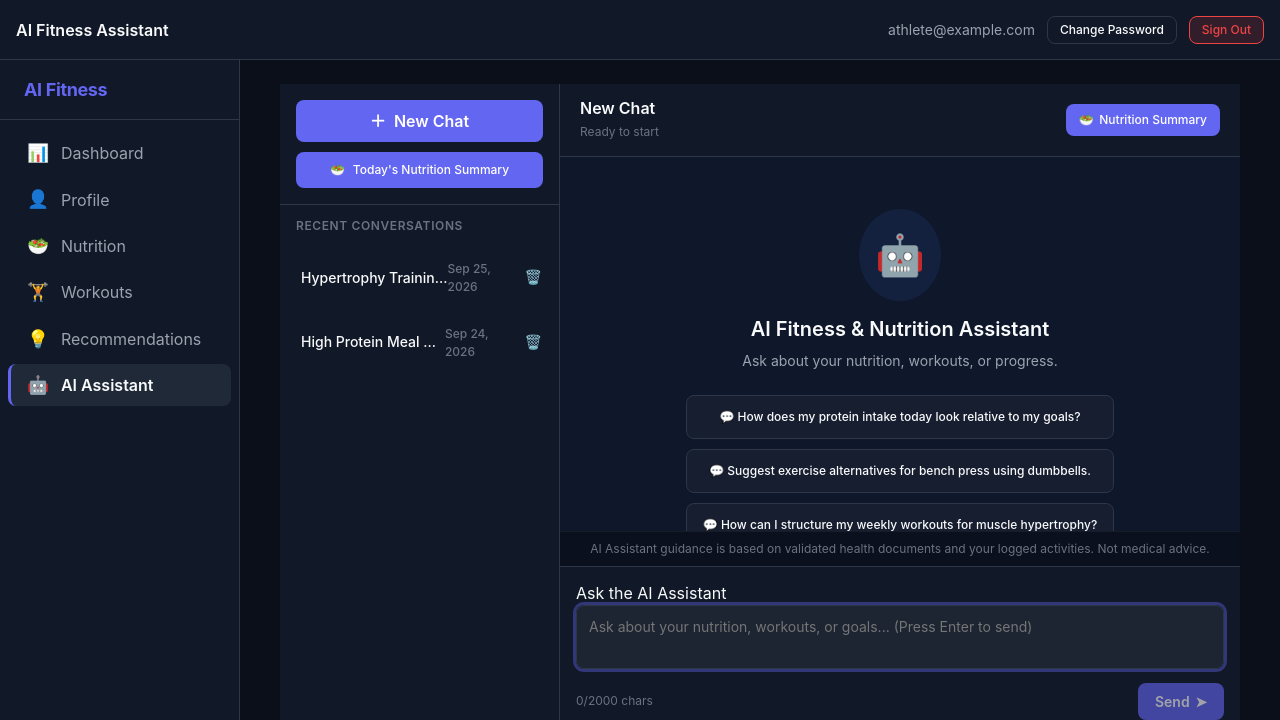
Phase 8H — AI Assistant & RAG Tests › 6. conversation delete requires confirmation dialog
Expected: the heading "AI Fitness & Nutrition Assistant" is shown, [751,317,1049,342]
Click the button named "delete conversation hypertrophy training routine" at [533, 277], box [516,262,550,292]
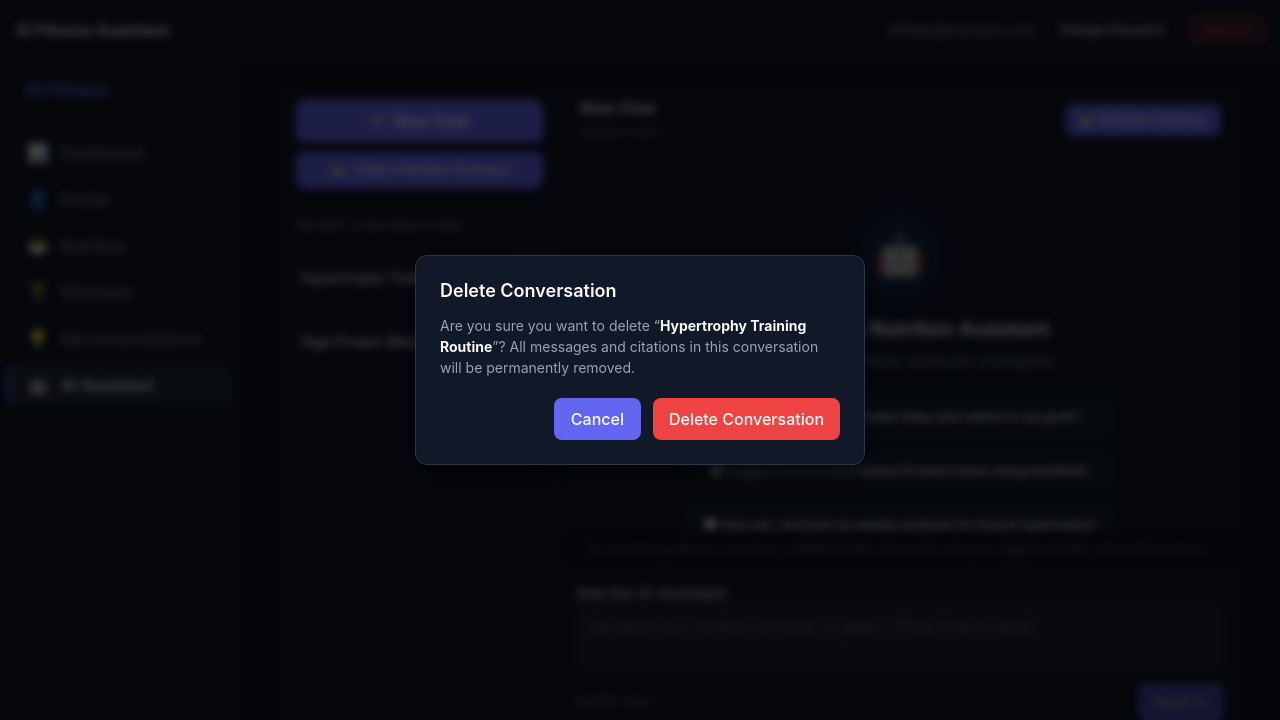
Result: the dialog "Delete Conversation" is shown
Result: the text "Are you sure you want to delete" is shown at [440,317,660,334]
# Cancel closes dialog
Click the button "Cancel" at [597, 419], box [554,398,641,440]
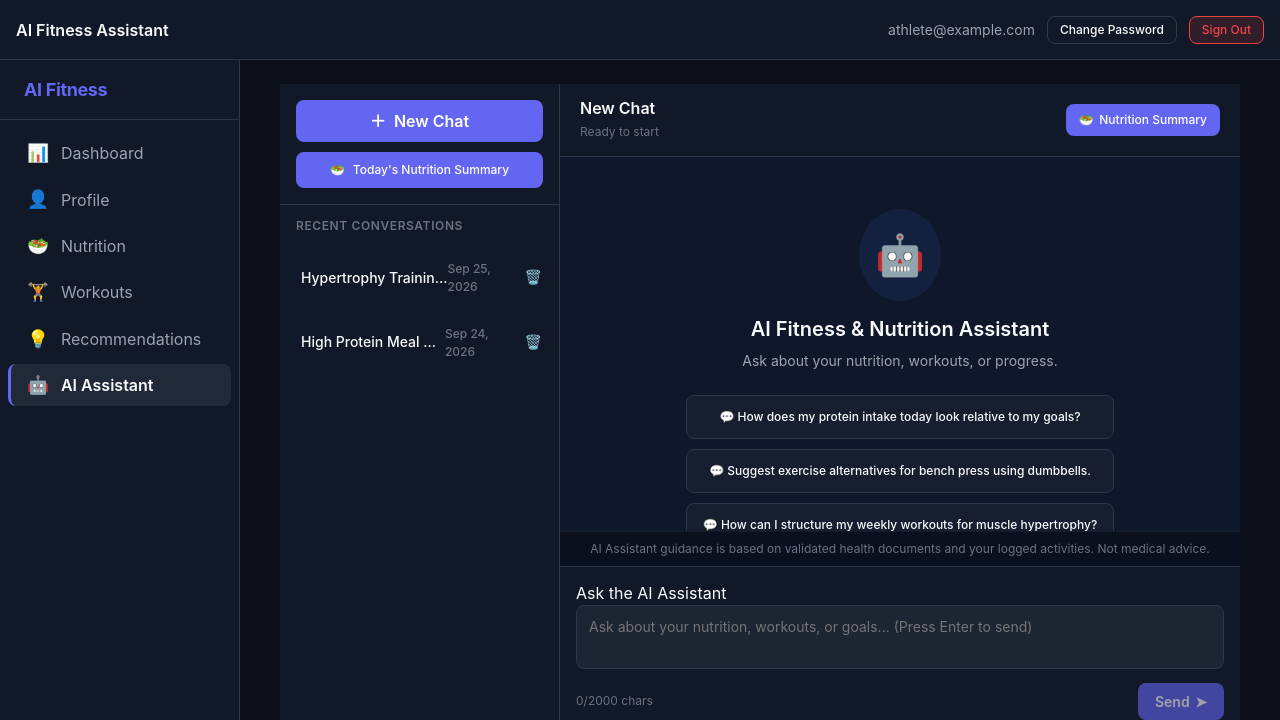
Expected: the text "Hypertrophy Training Routine" is shown, [301,267,448,288]
Result: the dialog is gone
